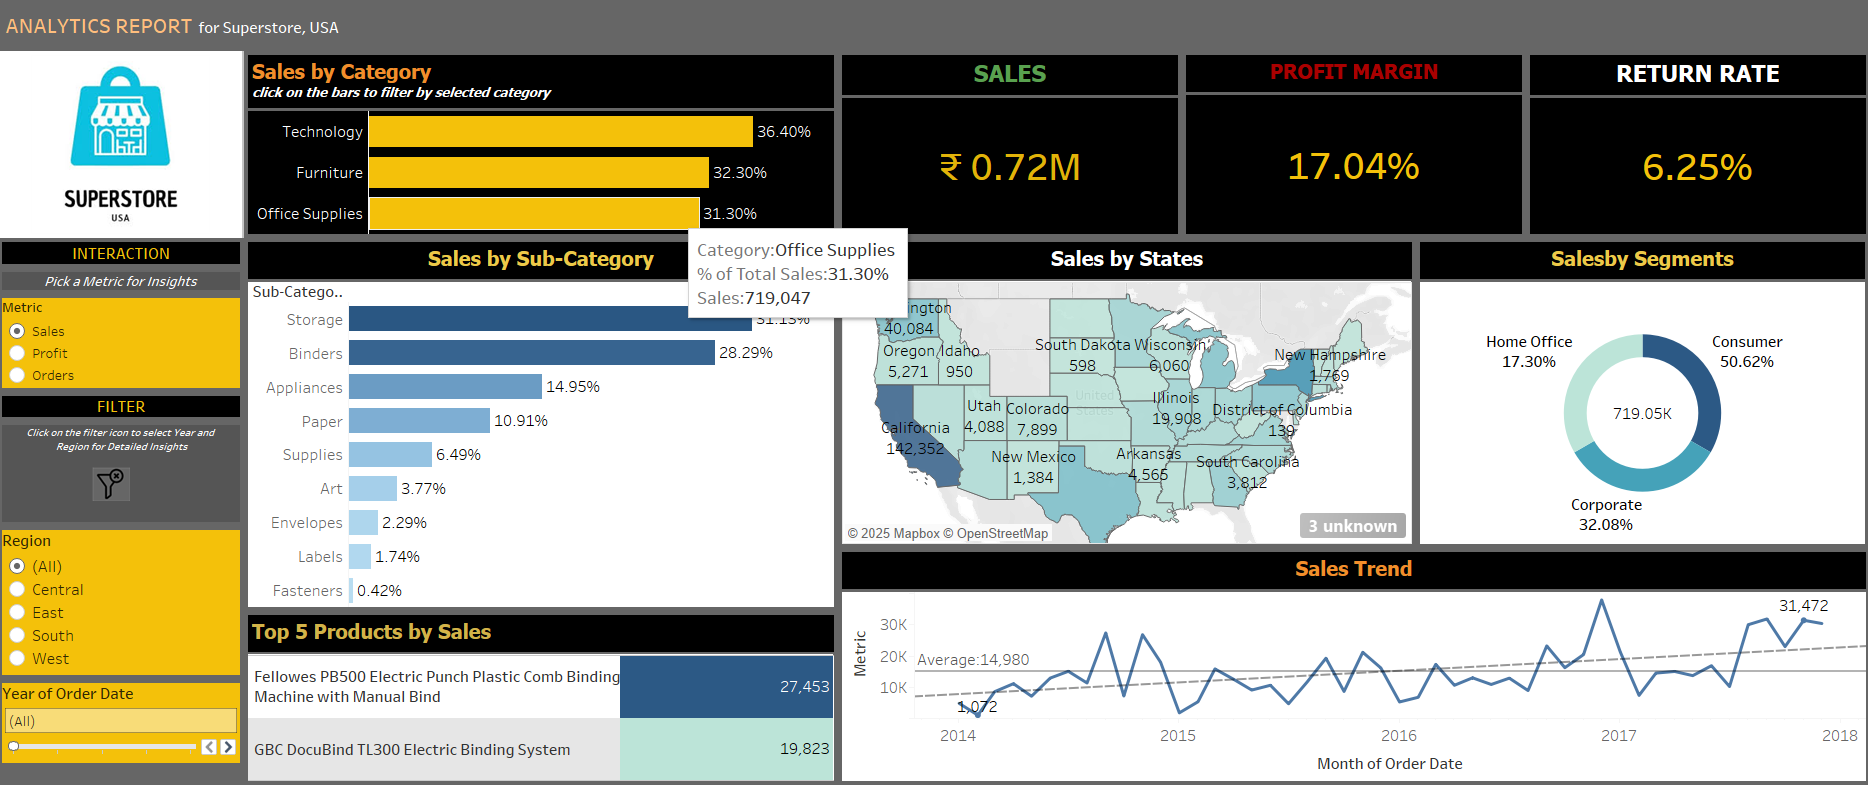

The dashboard page shown, as its layout file describes it:
{"tool":"tableau","page":{"name":" DASHBOARD","canvas":[1000,1000],"units":"permille","ordinal":0},"visuals":[{"type":"text","box":[4.8,10,990.3,63.5]},{"type":"image","param":"Image/LOGO.jpeg","box":[4.8,73.5,130.4,233.5]},{"type":"worksheet","title":"Sales|Profit|Orders by Category","mark":"Automatic","rows":["Category"],"cols":["Calculation_1030761407109013504"],"box":[135.2,73.5,314.2,233.4]},{"type":"worksheet","title":"Sales_KPI","mark":"Automatic","box":[449.6,73.7,182.2,233.5]},{"type":"worksheet","title":"PROFIT MARGIN KPI","mark":"Automatic","box":[631.9,73.7,181.7,233.5]},{"type":"worksheet","title":"RETURN RATE KPI","mark":"Automatic","box":[813.5,73.7,181.7,233.5]},{"type":"worksheet","title":"Sales by Sub-Category","mark":"Automatic","rows":["Sub-Category"],"cols":["Calculation_1030761407109013504"],"box":[135.2,306.9,314.1,465.9]},{"type":"worksheet","title":"Sales by States","mark":"Automatic","box":[449.3,306.9,306,387.1]},{"type":"worksheet","title":"Sales by Segments","mark":"Pie","rows":["Calculation_733805307714633729","Calculation_733805307714658307"],"box":[755.3,306.9,239.9,387.1]},{"type":"text","box":[4.8,307,130.4,37.5]},{"type":"text","box":[4.8,344.5,130.4,32.5]},{"type":"parameter","param":"[Parameters].[Parameter 1]","box":[4.8,376.9,130.4,122.4]},{"type":"text","box":[4.8,499.3,130.4,36.2]},{"type":"text","box":[4.8,535.5,130.4,131.1]},{"type":"dashboard-object","box":[49.8,593,28.7,42.5]},{"type":"filter","title":"Sales by States","param":"[federated.0q4xpss075km4t123169i0f06wxi].[none:Region:nk]","box":[4.8,666.6,130.4,191]},{"type":"worksheet","title":"Sales Trend","mark":"Line","rows":["Calculation_1030761407109013504"],"cols":["Order Date"],"box":[449.3,694,545.9,296.1]},{"type":"worksheet","title":"Top 5 Products by Sales","mark":"Square","rows":["Product Name"],"box":[135.2,772.7,314.1,217.3]},{"type":"filter","title":"Sales Trend","param":"[federated.0q4xpss075km4t123169i0f06wxi].[yr:Order Date:ok]","box":[4.8,857.6,130.4,109.9]}]}

Visuals, with their boxes on the dashboard's canvas, which has no fixed pixel size, in thousandths of its width and height (x1, y1, x2, y2). These are canvas units, not pixel positions in the 1868x786 screenshot, which may show the page scaled, cropped or inside an application window:
text: select_region(5, 10, 995, 74)
image: select_region(5, 74, 135, 307)
"Sales|Profit|Orders by Category" worksheet: select_region(135, 74, 449, 307)
"Sales_KPI" worksheet: select_region(450, 74, 632, 307)
"PROFIT MARGIN KPI" worksheet: select_region(632, 74, 814, 307)
"RETURN RATE KPI" worksheet: select_region(814, 74, 995, 307)
"Sales by Sub-Category" worksheet: select_region(135, 307, 449, 773)
"Sales by States" worksheet: select_region(449, 307, 755, 694)
"Sales by Segments" worksheet (Pie marks): select_region(755, 307, 995, 694)
text: select_region(5, 307, 135, 344)
text: select_region(5, 344, 135, 377)
parameter: select_region(5, 377, 135, 499)
text: select_region(5, 499, 135, 536)
text: select_region(5, 536, 135, 667)
dashboard-object: select_region(50, 593, 78, 636)
"Sales by States" filter: select_region(5, 667, 135, 858)
"Sales Trend" worksheet (Line marks): select_region(449, 694, 995, 990)
"Top 5 Products by Sales" worksheet (Square marks): select_region(135, 773, 449, 990)
"Sales Trend" filter: select_region(5, 858, 135, 968)
